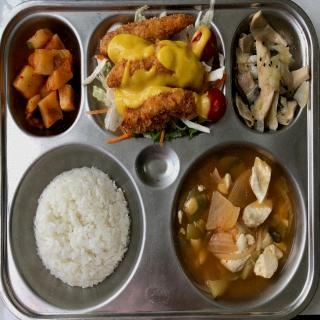Nasi: (36, 158, 139, 294)
